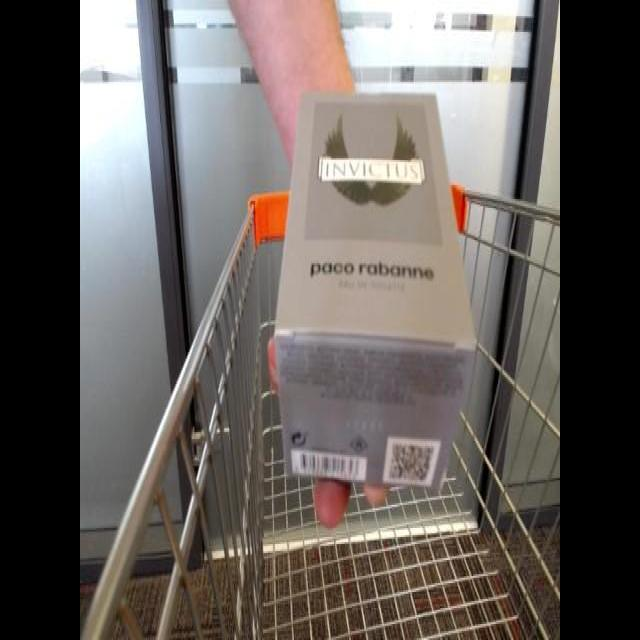Paco Rabanne: (271, 76, 474, 496)
